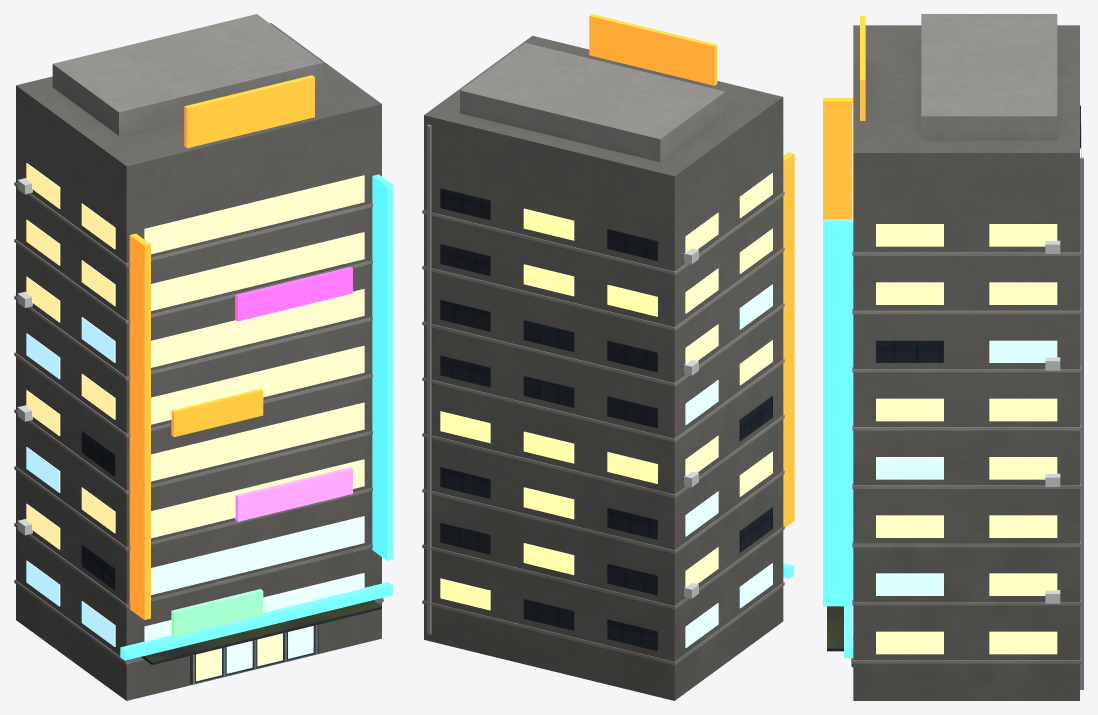
The model's file is neonhus_3_tex.glb.
The picture shows the model from 3 angles, left to right: view 1: azimuth 30°, elevation 25°; view 2: azimuth 150°, elevation 25°; view 3: azimuth 270°, elevation 25°; orthographic projection. The views are drawn at different scales.
Visible parts, largest first — view 1: neonhus_3; view 2: neonhus_3; view 3: neonhus_3.
Part boxes in pixels (x1,y1,x2,y2): neonhus_3: (14, 14, 393, 700); neonhus_3: (422, 14, 794, 700); neonhus_3: (823, 14, 1083, 700).
Bounding box in the file's own units: 17 × 34.4 × 13.8.
14 materials, 5 textured.
